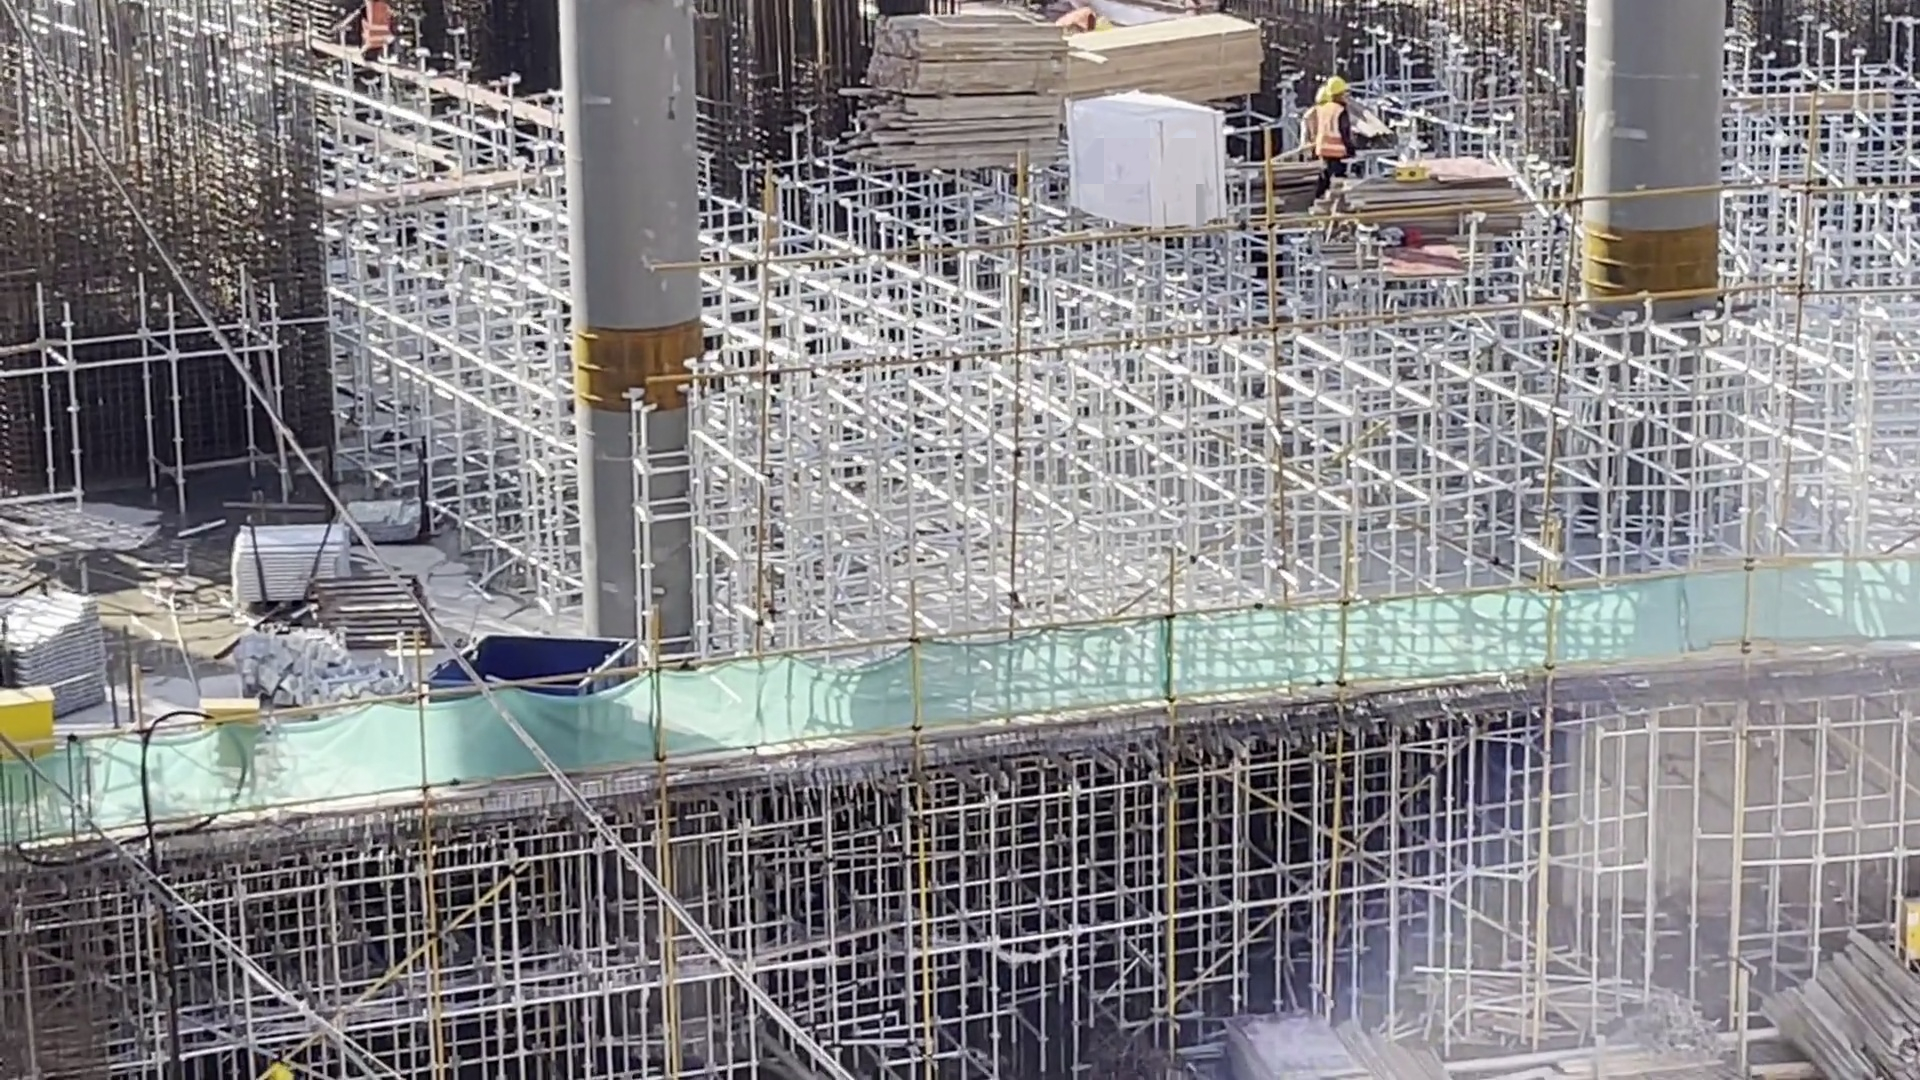board: (1331, 152, 1539, 239), (1221, 994, 1388, 1077)
ebox: (11, 674, 88, 789), (174, 682, 231, 746), (1889, 896, 1918, 961)
helmet: (1332, 78, 1350, 95), (1095, 16, 1111, 34), (1317, 85, 1328, 101)
hopper: (426, 639, 641, 756)
person: (1306, 78, 1364, 201), (355, 1, 389, 65), (1059, 10, 1104, 26)
scaffold: (3, 589, 101, 714), (214, 522, 343, 591)
vest: (1322, 103, 1355, 154), (363, 4, 393, 51), (1302, 112, 1316, 147), (1069, 8, 1089, 29)
wood: (1724, 891, 1920, 1037), (879, 26, 1049, 156), (1043, 21, 1236, 92)
